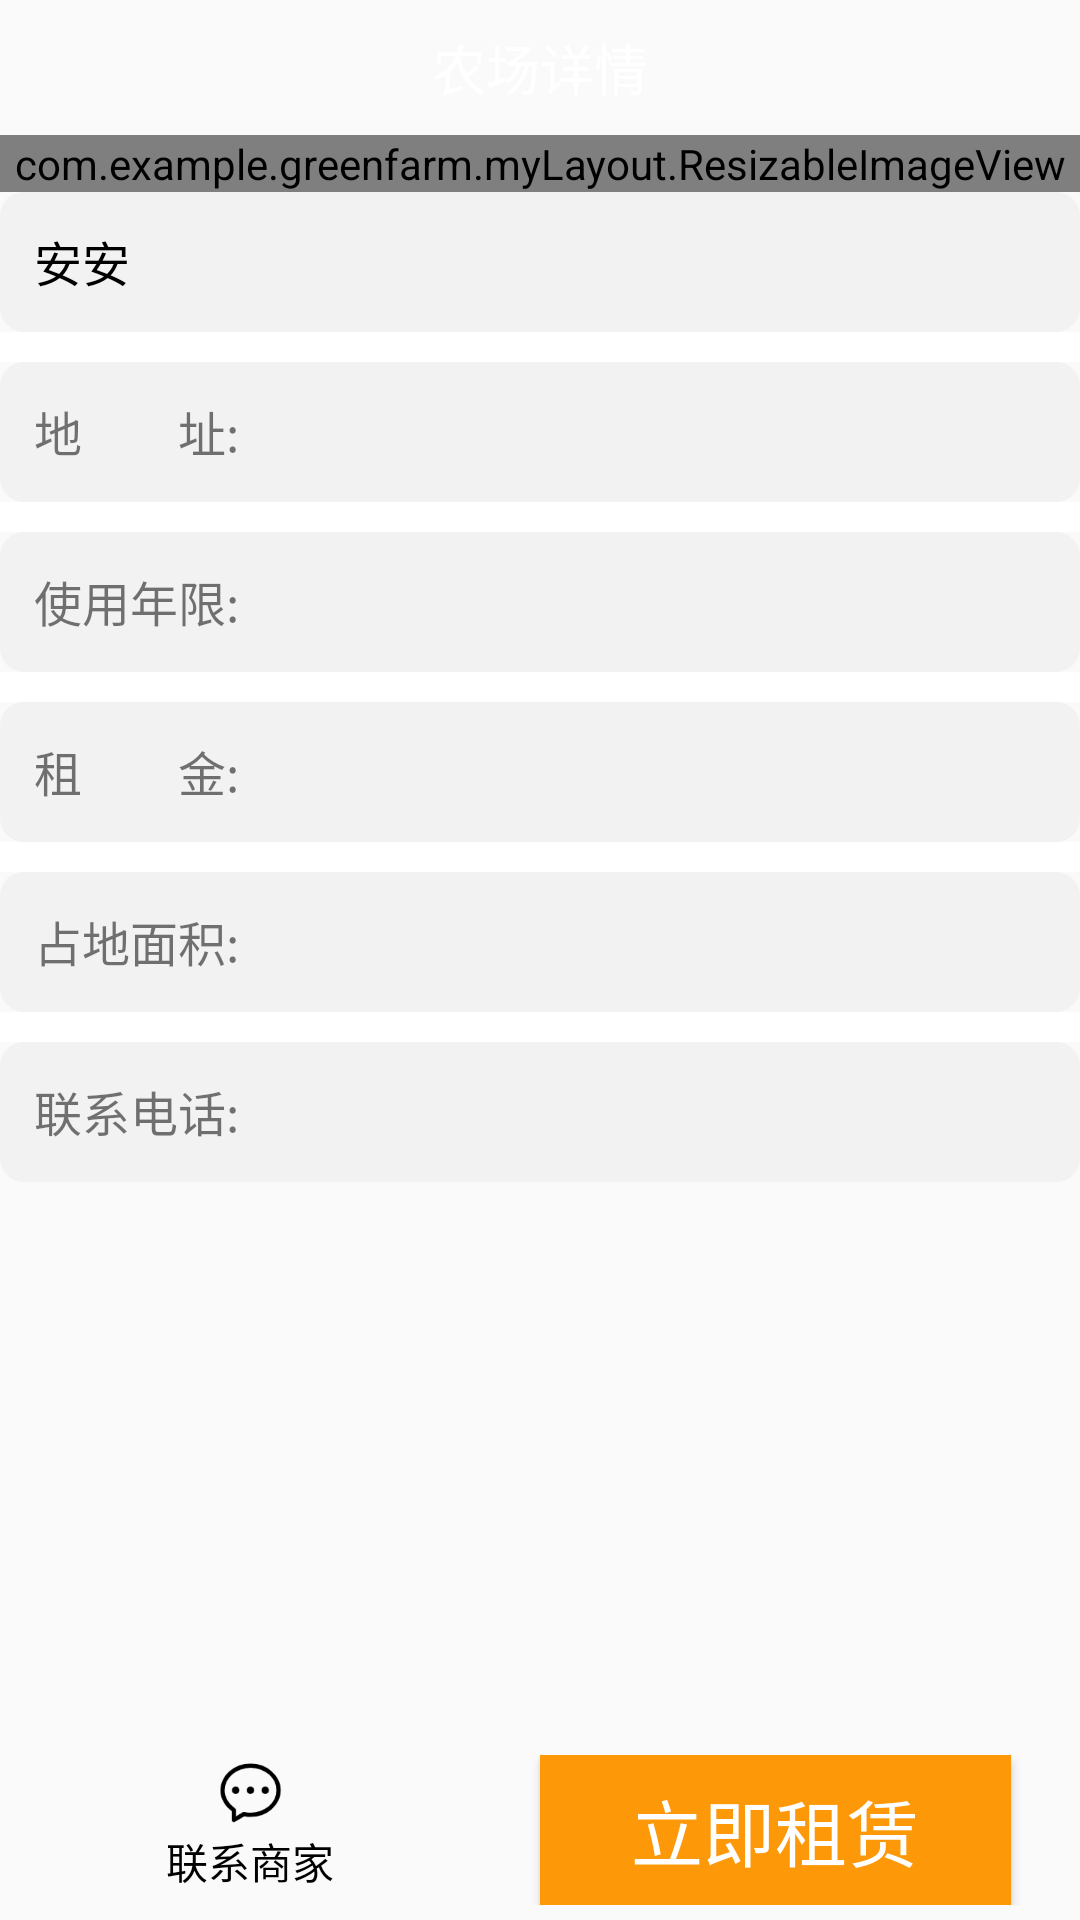

Icons on this 1080 x 1920 Android screen, each with its box as (x1, y1, x2, y2):
message: (220, 1763, 281, 1823)
